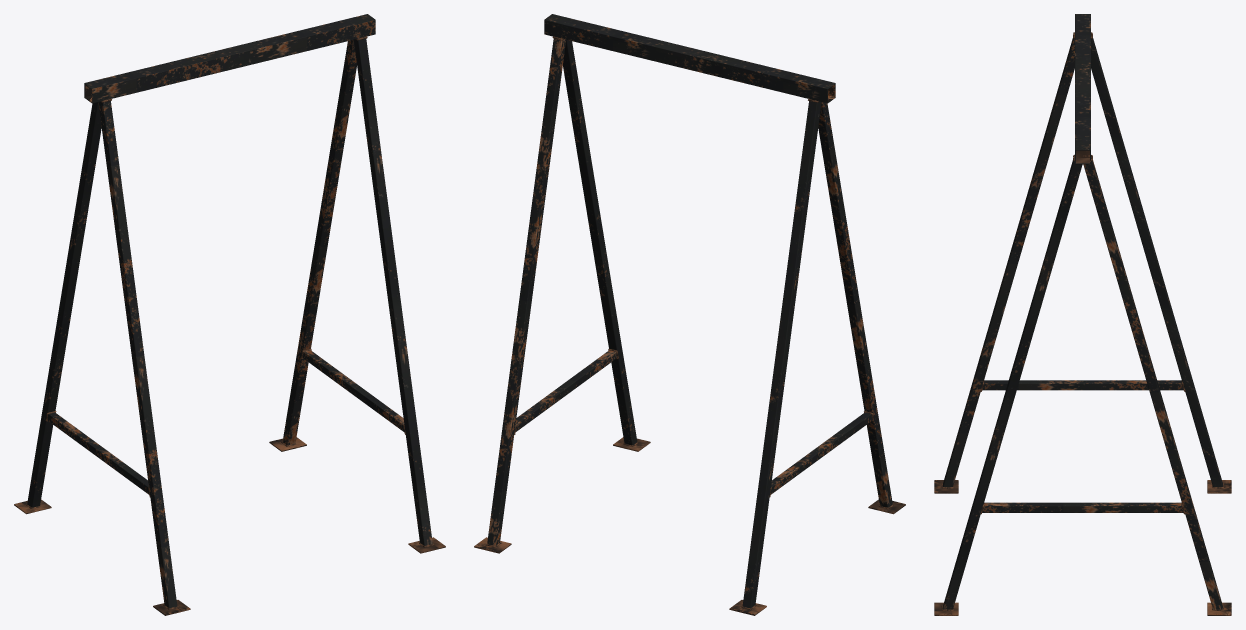
File: gong_stand.glb
3 renders of one model, left to right at view 1: azimuth 30°, elevation 25°; view 2: azimuth 150°, elevation 25°; view 3: azimuth 270°, elevation 25°, orthographic.
Visible parts, largest first — view 1: gong_stand; view 2: gong_stand; view 3: gong_stand.
Part boxes in pixels (bbox=[...]): gong_stand: bbox=[14, 14, 445, 615]; gong_stand: bbox=[474, 14, 905, 615]; gong_stand: bbox=[934, 14, 1231, 615].
Bounding box in the file's own units: 1 × 1.6 × 0.923.
Materials: 2 (2 with a texture image).
